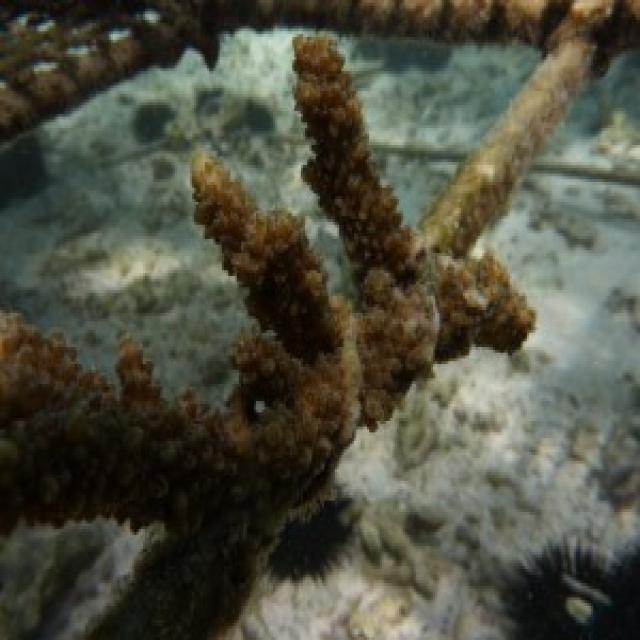Healthy: (1, 160, 359, 556), (295, 38, 534, 425)
